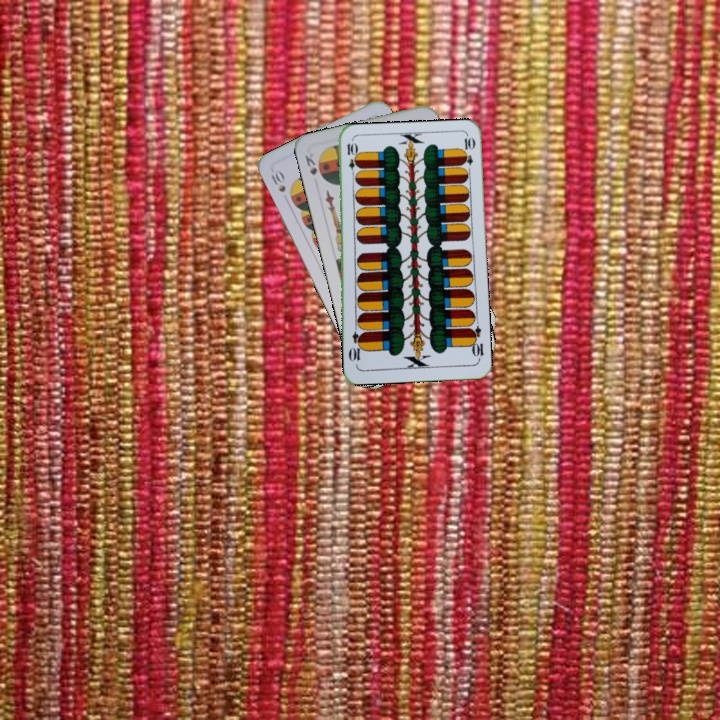E10: (466, 322, 486, 363), (343, 139, 358, 179)
S10: (267, 168, 288, 195)
SK: (301, 149, 320, 178)
